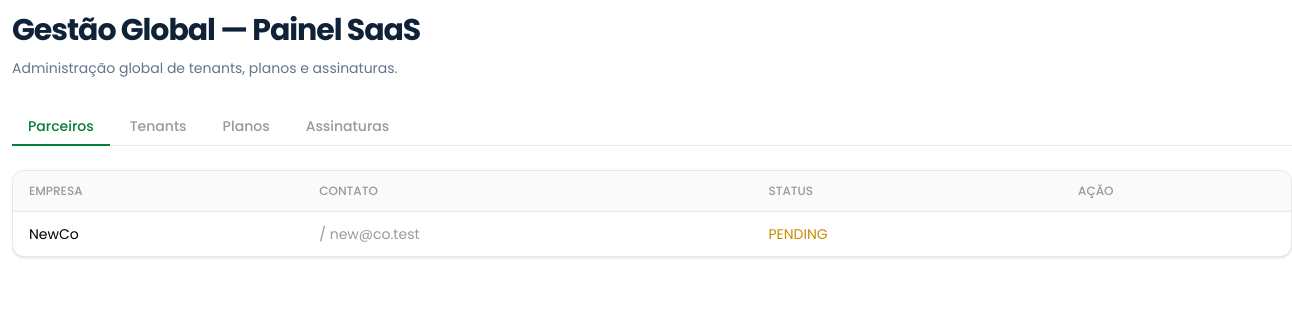
SuperAdmin View › loads tenants on mount
Click the tab with test id "tab-Tenants": point(158, 127) [114, 108, 203, 146]
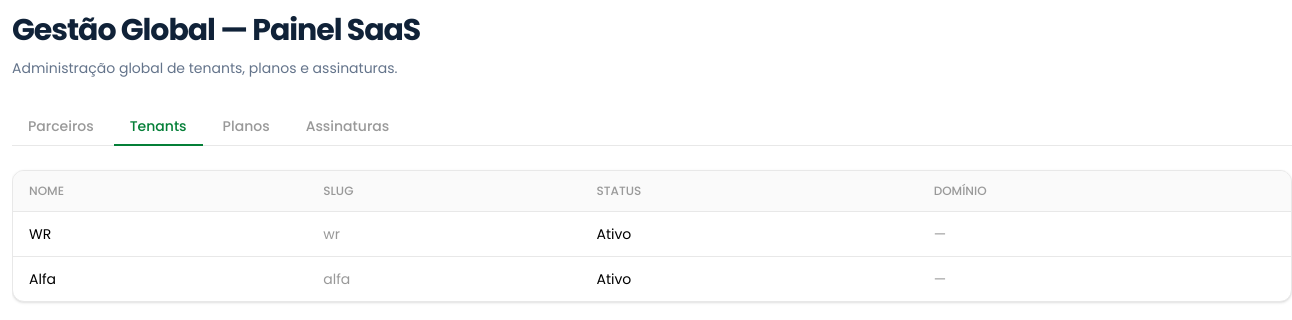
Now the text "WR" is shown, box [13, 212, 307, 256]
Now the text "Alfa" is shown, box [13, 256, 307, 301]
